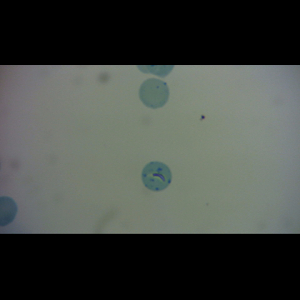aggregate reticulocyte: (140, 160, 175, 192)
punctate reticulocyte: (138, 77, 171, 110)
